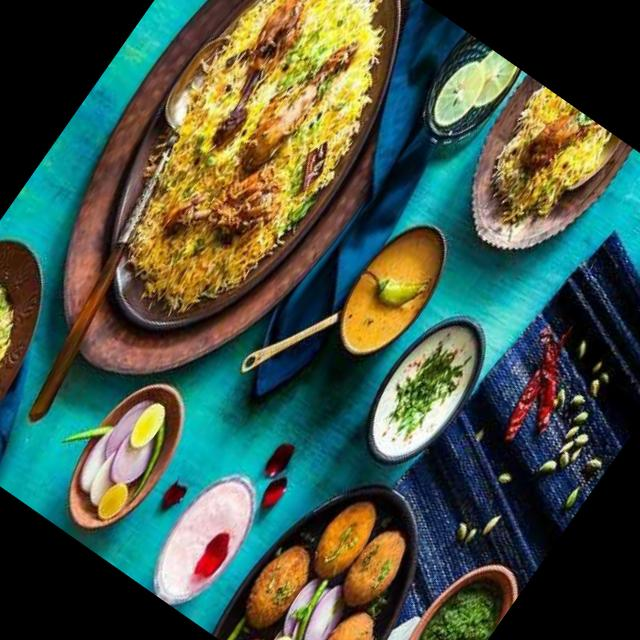Biryani: (75, 0, 436, 343)
